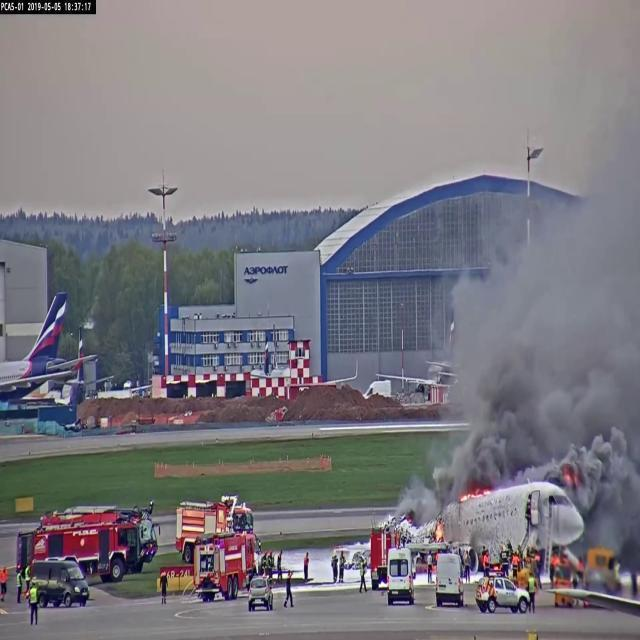Smoke: (459, 342, 541, 480), (588, 420, 640, 523)
